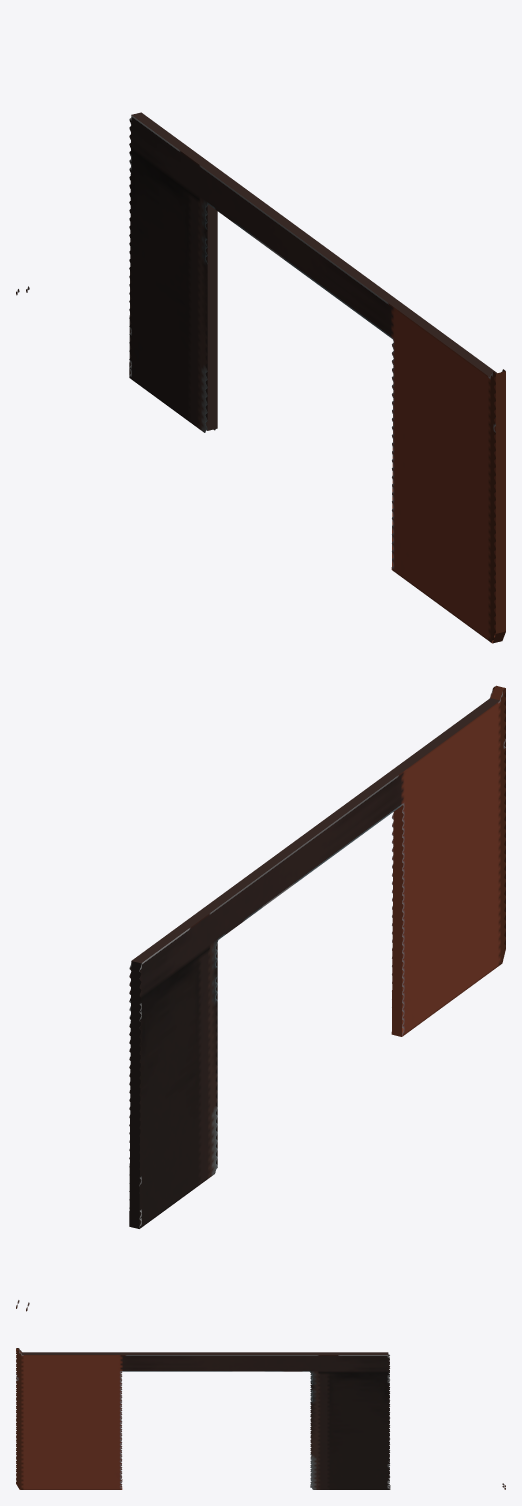
The model's file is pz_native_location_restaurant_seahorse_01_27_frame.obj.
3 renders of one model, top to bottom at view 1: azimuth 30°, elevation 25°; view 2: azimuth 150°, elevation 25°; view 3: azimuth 270°, elevation 25°, orthographic. The views are drawn at different scales.
Visible parts, largest first — view 1: pz_native_location_restaurant_seahorse_01_27_frame; view 2: pz_native_location_restaurant_seahorse_01_27_frame; view 3: pz_native_location_restaurant_seahorse_01_27_frame.
Part boxes in pixels (x1,y1,x2,y2): pz_native_location_restaurant_seahorse_01_27_frame: (16,112,505,643); pz_native_location_restaurant_seahorse_01_27_frame: (16,685,505,1311); pz_native_location_restaurant_seahorse_01_27_frame: (16,1348,505,1489).
Bounding box in the file's own units: 0.04 × 1.06 × 3.32.
1 material, 1 textured.
